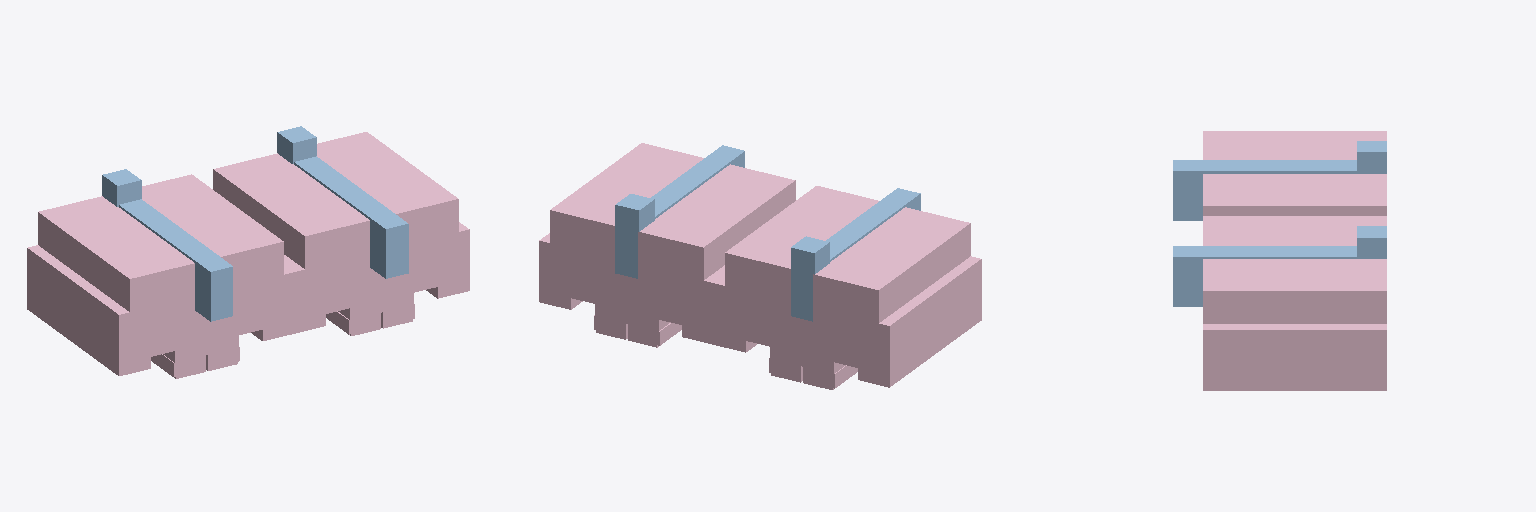
File: CIM3dormitory_household.obj
The picture shows the model from 3 angles: view 1: azimuth 30°, elevation 25°; view 2: azimuth 150°, elevation 25°; view 3: azimuth 270°, elevation 25°; orthographic projection.
Visible parts, largest first — view 1: 1jTmW3LhHDfhbfrbCVVz1z, 3gLjpC3zH79Rr$biRQLvhc, 0fLmn5VdT6vBX_hCHqWLvS, 1ehNyTOzXC4BbV8mmFYvn6, 3oF55TEy93GuzqrCfkJFuf, 1D85yzw$P8t8N0k$xGOelB, 3KQYApJMLBqOJfp5cRFnbL, 2qUxIHYRf7eeIL9Unl9RXt, 07$xJ8K$fC7QsKh11WCMKj, 2CkCNKTIn33hznJb7HA1Bh, 1wGBhK0fDCe8RVLvlXMa4$, 3Q6pD1dsrCyBqS6hceKhV_ (+16 smaller); view 2: 07$xJ8K$fC7QsKh11WCMKj, 1x9HomYLf3bfgh4tLSO8hp, 1TC_3uYoT5q9y4lmvLfVIj, 0hBT24fjHFWAJDSoZ1loaJ, 1D85yzw$P8t8N0k$xGOelB, 1jTmW3LhHDfhbfrbCVVz1z, 2qUxIHYRf7eeIL9Unl9RXt, 3KQYApJMLBqOJfp5cRFnbL, 3oF55TEy93GuzqrCfkJFuf, 09c69IwJz6A8epfn$4m1wI, 1f89MxLL94UfegGrqx06MN, 20CkVenGH7DOMKwKErc8K9 (+14 smaller); view 3: 1GkrOYhyL2CBHOFYevpcZd, 2msS631znBDAHYupoVzrqt, 1GoJwwgjDBGwG3TztZD_R$, 0fLmn5VdT6vBX_hCHqWLvS, 0hBT24fjHFWAJDSoZ1loaJ, 0OhtKq04P2wAwRyZNvIh$e, 1wGBhK0fDCe8RVLvlXMa4$, 2CkCNKTIn33hznJb7HA1Bh, 0vvjqrp2HDfxxQvHn33poB, 1VVe6QqbHDhRyeM9HgmeZj, 3u4wccYDzE3wLueB$zg66i, 1ehNyTOzXC4BbV8mmFYvn6 (+14 smaller).
Part boxes in pixels (x1,y1,x2,y2): 1jTmW3LhHDfhbfrbCVVz1z: (104, 252, 206, 378); 3gLjpC3zH79Rr$biRQLvhc: (284, 209, 381, 335); 0fLmn5VdT6vBX_hCHqWLvS: (381, 188, 469, 328); 1ehNyTOzXC4BbV8mmFYvn6: (206, 230, 293, 370); 3oF55TEy93GuzqrCfkJFuf: (88, 241, 178, 365); 1D85yzw$P8t8N0k$xGOelB: (42, 207, 132, 331); 3KQYApJMLBqOJfp5cRFnbL: (73, 230, 163, 352); 2qUxIHYRf7eeIL9Unl9RXt: (58, 218, 148, 341); 07$xJ8K$fC7QsKh11WCMKj: (27, 196, 116, 319); 2CkCNKTIn33hznJb7HA1Bh: (370, 213, 408, 273); 1wGBhK0fDCe8RVLvlXMa4$: (195, 255, 232, 316); 3Q6pD1dsrCyBqS6hceKhV_: (274, 198, 353, 323); 07$xJ8K$fC7QsKh11WCMKj: (802, 264, 904, 389); 1x9HomYLf3bfgh4tLSO8hp: (627, 221, 724, 347); 1TC_3uYoT5q9y4lmvLfVIj: (714, 242, 802, 382); 0hBT24fjHFWAJDSoZ1loaJ: (539, 199, 627, 339); 1D85yzw$P8t8N0k$xGOelB: (830, 252, 919, 376); 1jTmW3LhHDfhbfrbCVVz1z: (891, 207, 981, 331); 2qUxIHYRf7eeIL9Unl9RXt: (845, 241, 935, 364); 3KQYApJMLBqOJfp5cRFnbL: (860, 230, 950, 352); 3oF55TEy93GuzqrCfkJFuf: (875, 218, 965, 341); 09c69IwJz6A8epfn$4m1wI: (615, 194, 654, 273); 1f89MxLL94UfegGrqx06MN: (791, 236, 829, 316); 20CkVenGH7DOMKwKErc8K9: (655, 209, 733, 334); 1GkrOYhyL2CBHOFYevpcZd: (1326, 259, 1356, 390); 2msS631znBDAHYupoVzrqt: (1295, 259, 1325, 390); 1GoJwwgjDBGwG3TztZD_R$: (1234, 259, 1264, 390); 0fLmn5VdT6vBX_hCHqWLvS: (1203, 259, 1233, 390); 0hBT24fjHFWAJDSoZ1loaJ: (1357, 259, 1386, 390); 0OhtKq04P2wAwRyZNvIh$e: (1265, 259, 1294, 390); 1wGBhK0fDCe8RVLvlXMa4$: (1173, 160, 1202, 215); 2CkCNKTIn33hznJb7HA1Bh: (1173, 246, 1202, 301); 0vvjqrp2HDfxxQvHn33poB: (1326, 174, 1356, 215); 1VVe6QqbHDhRyeM9HgmeZj: (1295, 174, 1325, 215); 3u4wccYDzE3wLueB$zg66i: (1234, 174, 1264, 215); 1ehNyTOzXC4BbV8mmFYvn6: (1203, 174, 1233, 215).
Size of the model in its own units: 39616 by 14336 by 21000.